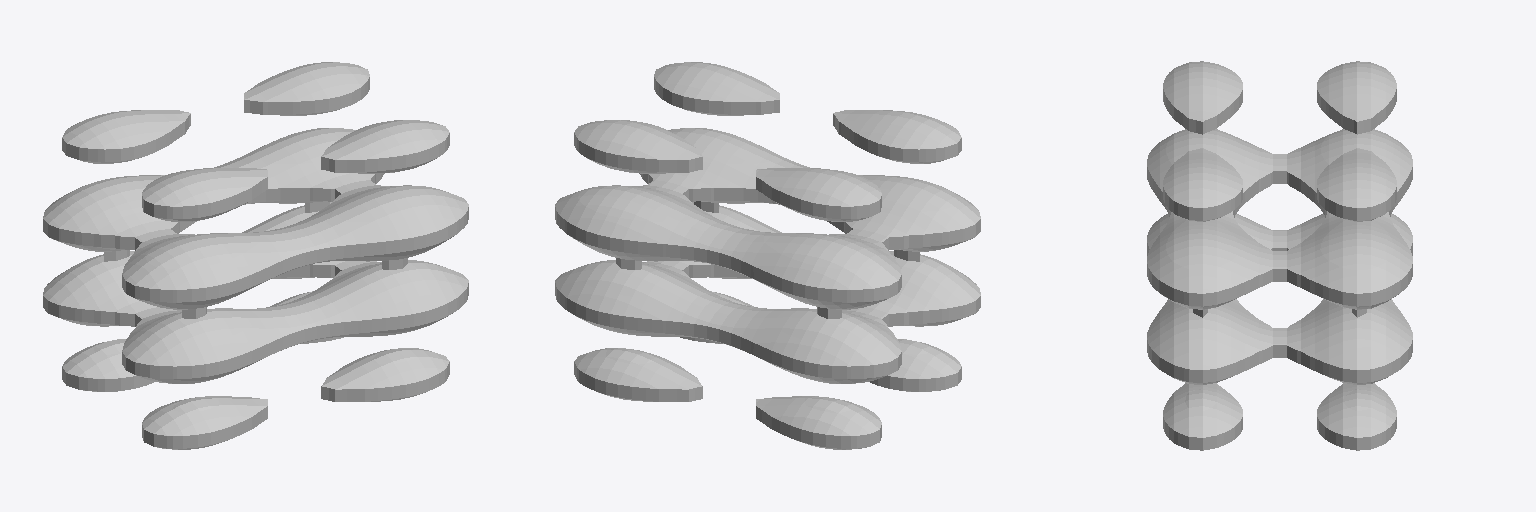
The model's file is orbo.obj.
The picture shows the model from 3 angles: view 1: azimuth 30°, elevation 25°; view 2: azimuth 150°, elevation 25°; view 3: azimuth 270°, elevation 25°; orthographic projection.
Parts seen in each view (by area): view 1: orbo; view 2: orbo; view 3: orbo.
Part boxes in pixels (x1,y1,x2,y2): orbo: (43, 62, 468, 449); orbo: (555, 62, 980, 449); orbo: (1147, 61, 1412, 450).
Bounding box in the file's own units: 26.19 × 19.82 × 17.85.